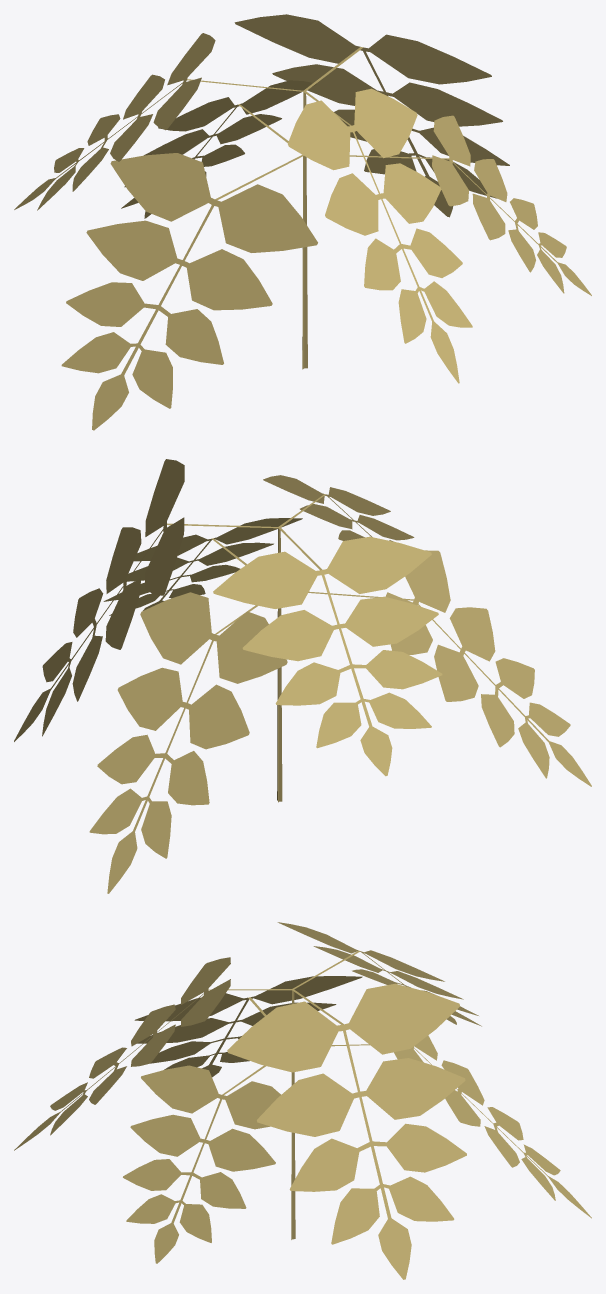
Rendered from potato_dead.fbx.
3 renders of one model, top to bottom at view 1: azimuth 30°, elevation 25°; view 2: azimuth 150°, elevation 25°; view 3: azimuth 270°, elevation 25°, orthographic. The views are drawn at different scales.
Parts seen in each view (by area): view 1: Plane.004; view 2: Plane.004; view 3: Plane.004.
Part boxes in pixels (x1=…): Plane.004: x1=14, y1=14, x2=591, y2=430; Plane.004: x1=14, y1=459, x2=591, y2=893; Plane.004: x1=14, y1=922, x2=591, y2=1279.
Bounding box in the file's own units: 53.64 × 32.81 × 61.89.
